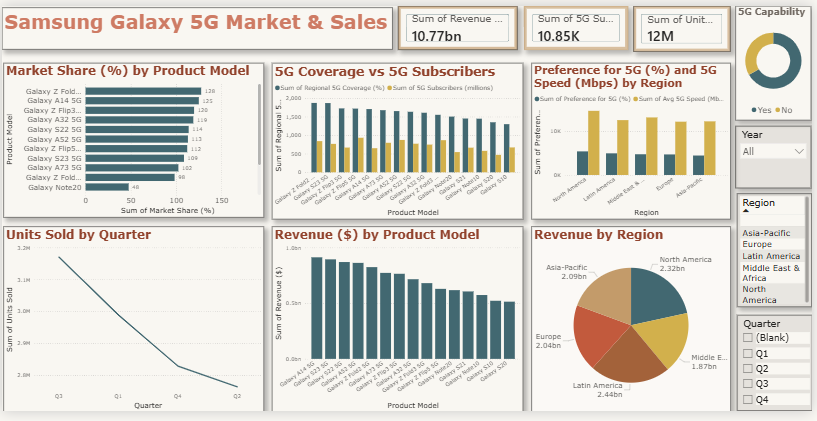

Layout of this report page (visuals, bound fields, positions):
{"tool":"powerbi","page":{"name":"Page 1","canvas":[1800,900],"ordinal":0},"visuals":[{"type":"pieChart","title":"Revenue by Region","fields":{"Y":["Sum(Expanded_Dataset (1).Revenue ($))"],"Category":["Expanded_Dataset (1).Region"]},"box":[1175.9,489,442.4,412.5],"z":0},{"type":"cardVisual","fields":{"Data":["Sum(Expanded_Dataset (1).5G Subscribers (millions))"]},"box":[1159.1,0,231.5,97.1],"z":1000},{"type":"cardVisual","fields":{"Data":["Sum(Expanded_Dataset (1).Revenue ($))"]},"box":[881,0,265.1,97.1],"z":2000},{"type":"cardVisual","fields":{"Data":["Sum(Expanded_Dataset (1).Units Sold)"]},"box":[1403.5,0,215.5,101.3],"z":3000},{"type":"clusteredBarChart","title":"Market Share (%) by Product Model","fields":{"Y":["Sum(Expanded_Dataset (1).Market Share (%))"],"Category":["Expanded_Dataset (1).Product Model"]},"box":[1.9,126.9,578.6,343.4],"z":4000},{"type":"clusteredColumnChart","title":"5G Coverage vs 5G Subscribers","fields":{"Y":["Sum(Expanded_Dataset (1).Regional 5G Coverage (%))","Sum(Expanded_Dataset (1).5G Subscribers (millions))"],"Category":["Expanded_Dataset (1).Product Model"]},"box":[601,125.1,558.1,347.2],"z":5000},{"type":"clusteredColumnChart","title":"Preference for 5G (%) and 5G Speed (Mbps) by Region","fields":{"Y":["Sum(Expanded_Dataset (1).Preference for 5G (%))","Sum(Expanded_Dataset (1).Avg 5G Speed (Mbps))"],"Category":["Expanded_Dataset (1).Region"]},"box":[1175.9,125.1,442.4,347.2],"z":6000},{"type":"lineChart","title":"Units Sold by Quarter","fields":{"Category":["Expanded_Dataset (1).Quarter"],"Y":["Sum(Expanded_Dataset (1).Units Sold)"]},"box":[1.9,489,578.6,412.5],"z":7000},{"type":"clusteredColumnChart","title":"Revenue ($) by Product Model","fields":{"Y":["Sum(Expanded_Dataset (1).Revenue ($))"],"Category":["Expanded_Dataset (1).Product Model"]},"box":[601,489,558.1,412.5],"z":8000},{"type":"donutChart","title":" 5G Capability","fields":{"Category":["Expanded_Dataset (1).5G Capability"],"Y":["CountNonNull(Expanded_Dataset (1).5G Capability)"]},"box":[1631.4,0,168,253.9],"z":9000},{"type":"textbox","box":[0,3.7,868,93.3],"z":10000},{"type":"slicer","fields":{"Values":["Expanded_Dataset (1).Year"]},"box":[1631.4,266.9,168,138.1],"z":11000},{"type":"slicer","fields":{"Values":["Expanded_Dataset (1).Quarter"]},"box":[1632.5,687.5,167.5,212.5],"z":12000},{"type":"tableEx","fields":{"Values":["Expanded_Dataset (1).Region"]},"box":[1633.3,418.1,166.1,252],"z":13000}]}

Visuals, with their boxes in screenshot pixels (x1, y1, x2, y2), scaled from the page's 1800x900 canvas onto the 817x421 screenshot:
"Revenue by Region" pieChart: crop(534, 229, 735, 420)
cardVisual - Sum(Expanded_Dataset (1).5G Subscribers (millions)): crop(526, 0, 631, 45)
cardVisual - Sum(Expanded_Dataset (1).Revenue ($)): crop(400, 0, 520, 45)
cardVisual - Sum(Expanded_Dataset (1).Units Sold): crop(637, 0, 735, 47)
"Market Share (%) by Product Model" clusteredBarChart: crop(1, 59, 263, 220)
"5G Coverage vs 5G Subscribers" clusteredColumnChart: crop(273, 59, 526, 221)
"Preference for 5G (%) and 5G Speed (Mbps) by Region" clusteredColumnChart: crop(534, 59, 735, 221)
"Units Sold by Quarter" lineChart: crop(1, 229, 263, 420)
"Revenue ($) by Product Model" clusteredColumnChart: crop(273, 229, 526, 420)
" 5G Capability" donutChart: crop(740, 0, 816, 119)
textbox: crop(0, 2, 394, 45)
slicer - Expanded_Dataset (1).Year: crop(740, 125, 816, 189)
slicer - Expanded_Dataset (1).Quarter: crop(741, 322, 816, 420)
tableEx - Expanded_Dataset (1).Region: crop(741, 196, 816, 313)
